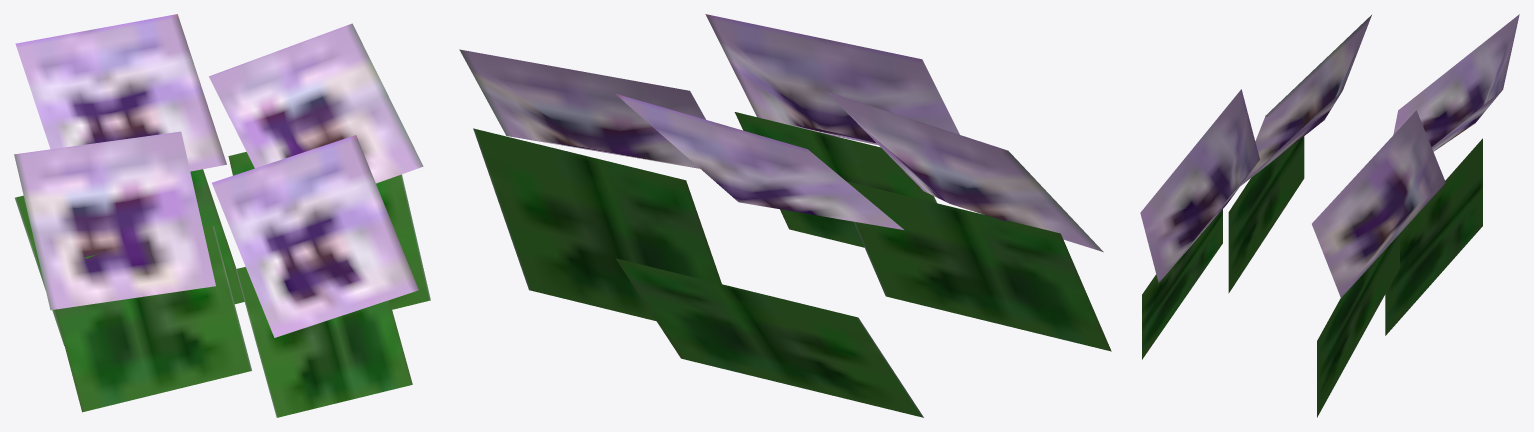
Rendered from flw_pansy_wt.dae.
3 renders of one model, left to right at view 1: azimuth 30°, elevation 25°; view 2: azimuth 150°, elevation 25°; view 3: azimuth 270°, elevation 25°, orthographic. The views are drawn at different scales.
Parts seen in each view (by area): view 1: flw_pansy_wt; view 2: flw_pansy_wt; view 3: flw_pansy_wt.
Boxes of the visible parts, bbox=[...] form: flw_pansy_wt: bbox=[14, 14, 430, 417]; flw_pansy_wt: bbox=[459, 14, 1111, 417]; flw_pansy_wt: bbox=[1140, 14, 1519, 417].
Size of the model in its own units: 32.39 by 19.38 by 26.27.
Materials: 1 (1 with a texture image).
